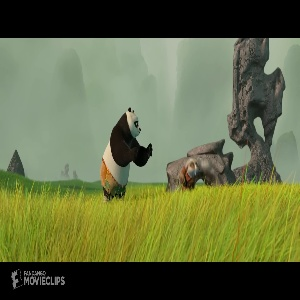po: (98, 105, 154, 202)
shifu: (178, 159, 202, 189)
